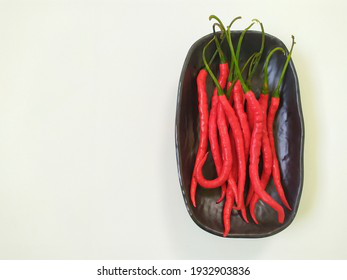Cabai: (181, 76, 292, 214)
